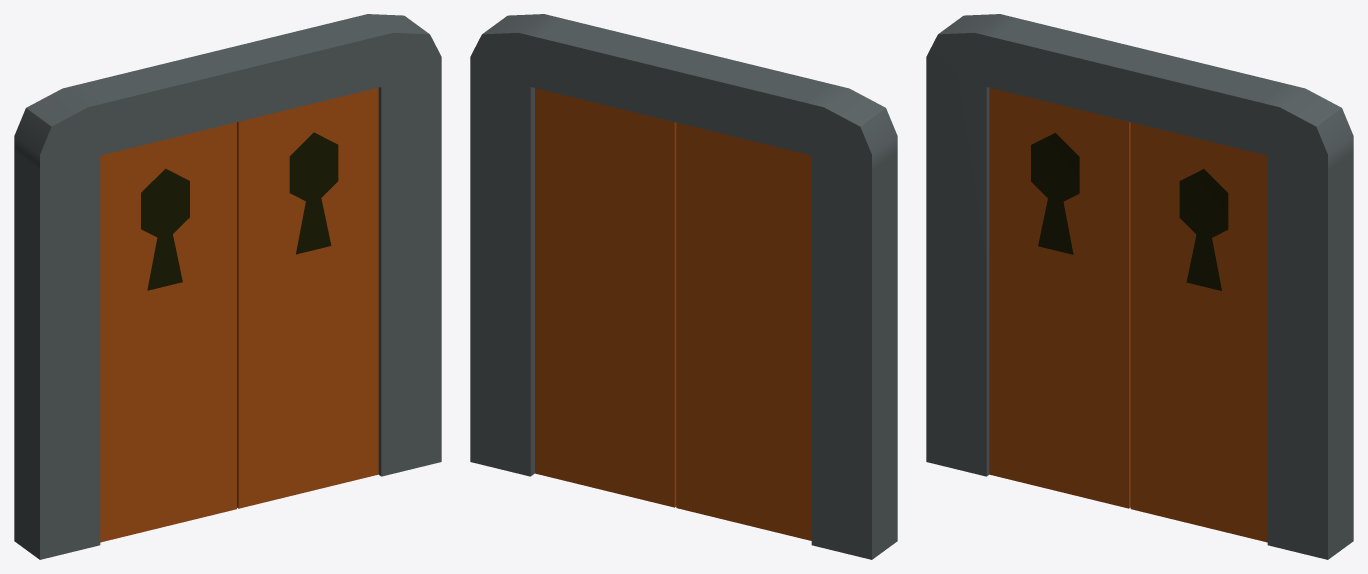
The model's file is SM_door.fbx.
3 renders of one model, left to right at view 1: azimuth 30°, elevation 25°; view 2: azimuth 150°, elevation 25°; view 3: azimuth 330°, elevation 25°, orthographic.
Visible parts, largest first — view 1: doorFrame, door_r, door_l; view 2: doorFrame, door_r, door_l; view 3: doorFrame, door_l, door_r.
Boxes of the visible parts, x1,y1,x2,y2 form: doorFrame: (14,14,441,559); door_r: (237,87,378,508); door_l: (100,122,236,542); doorFrame: (470,14,897,559); door_r: (535,88,676,507); door_l: (676,122,811,540); doorFrame: (926,14,1353,559); door_l: (989,87,1130,508); door_r: (1130,122,1267,542).
Bounding box in the file's own units: 605 × 634 × 67.06.
